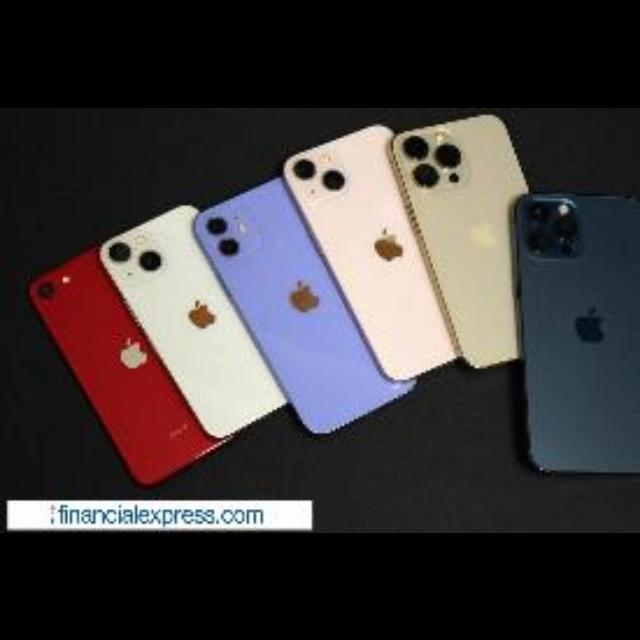phone: (193, 156, 411, 449), (265, 117, 490, 387), (11, 234, 235, 490), (78, 192, 286, 456), (382, 92, 562, 390), (513, 168, 640, 487)
